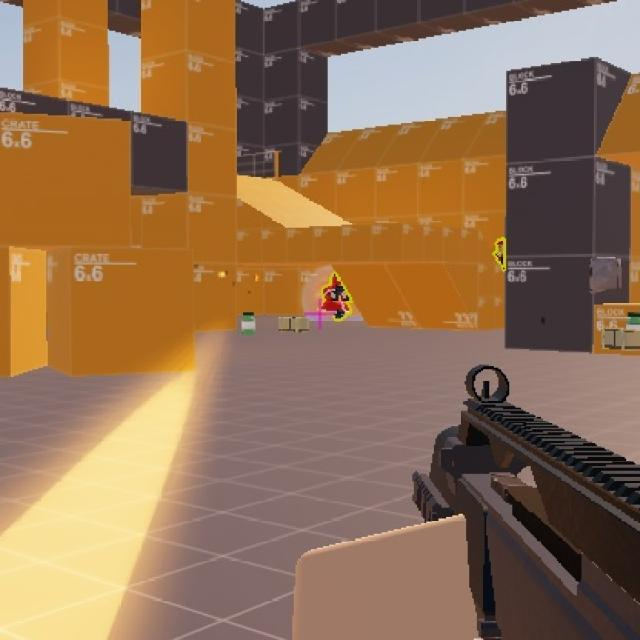player: (326, 272, 353, 321)
